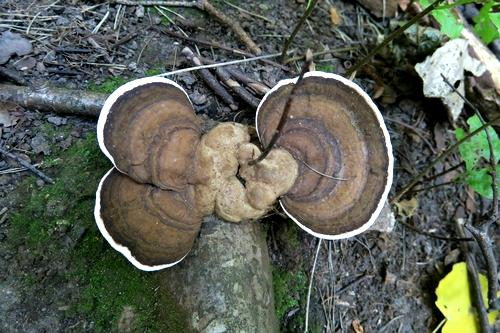Ganoderma - Fruit Body: (82, 63, 210, 279), (261, 68, 399, 246)
